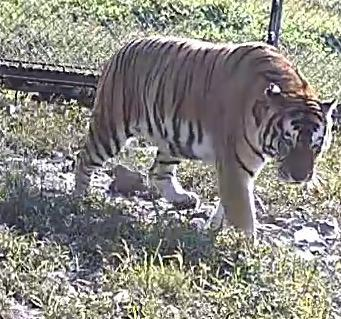tiger: (75, 36, 336, 233)
